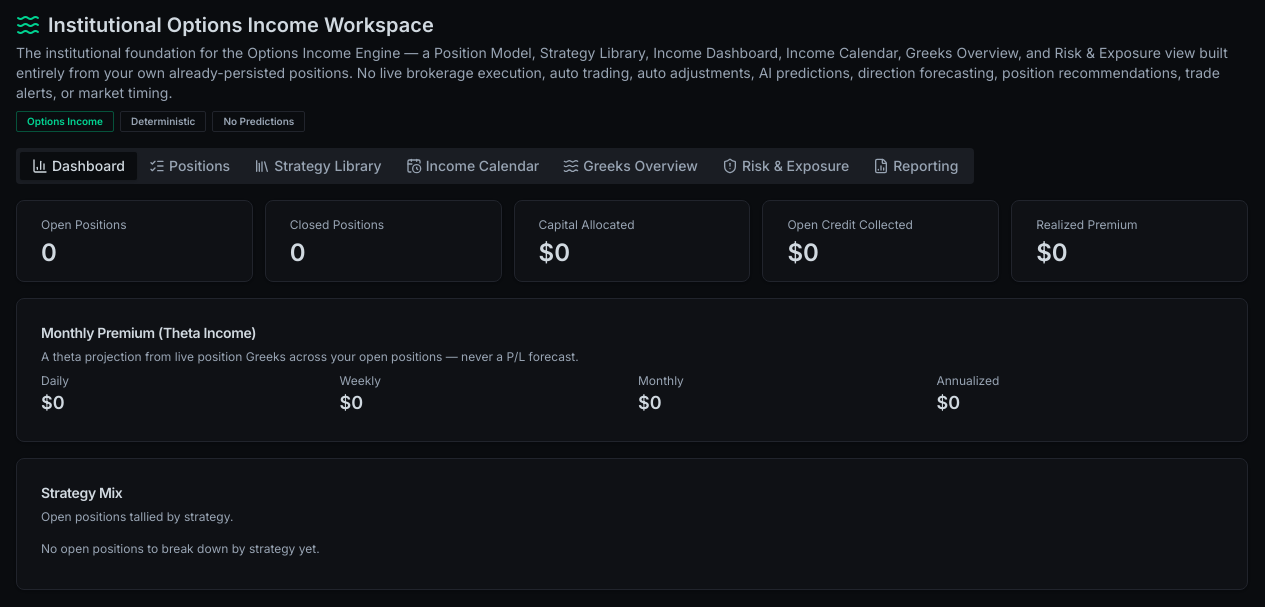
Scenario: OptionsIncomeWorkspace › groups the Income Calendar by real expiration date, honestly empty when there are none
The width and height of the screenshot is (1265, 607).
Click the tab with test id "tab-oiw-calendar": point(472, 166) [394, 152, 551, 180]
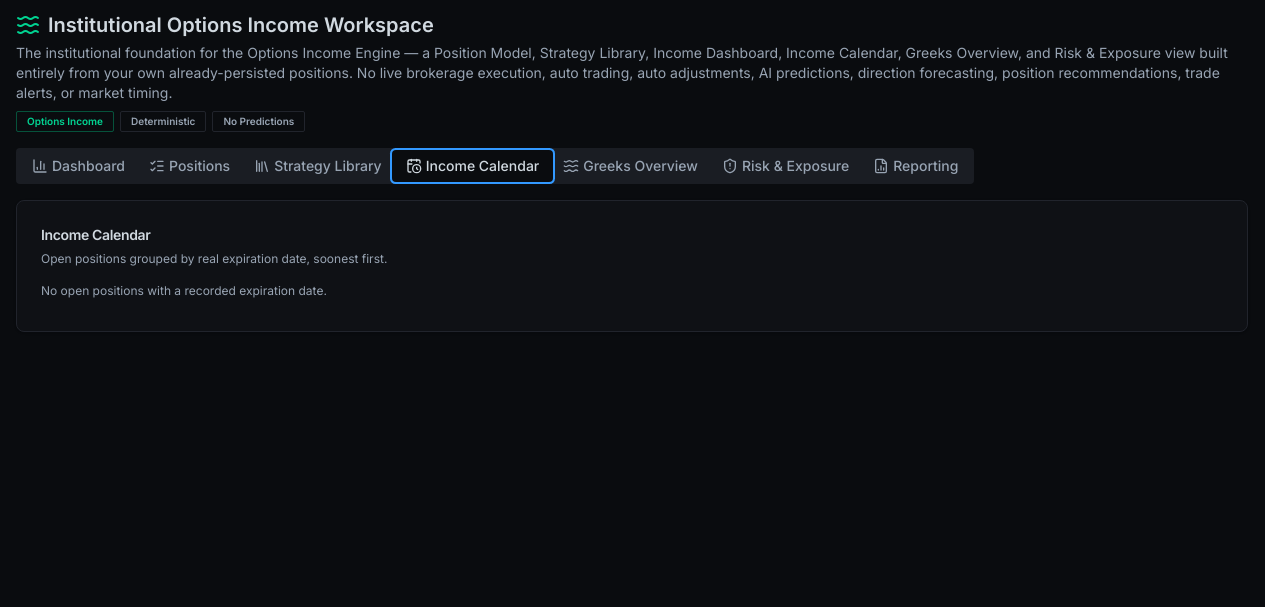
Check: the text "No open positions with a recorded expiration date." is shown, box [41, 283, 327, 298]
